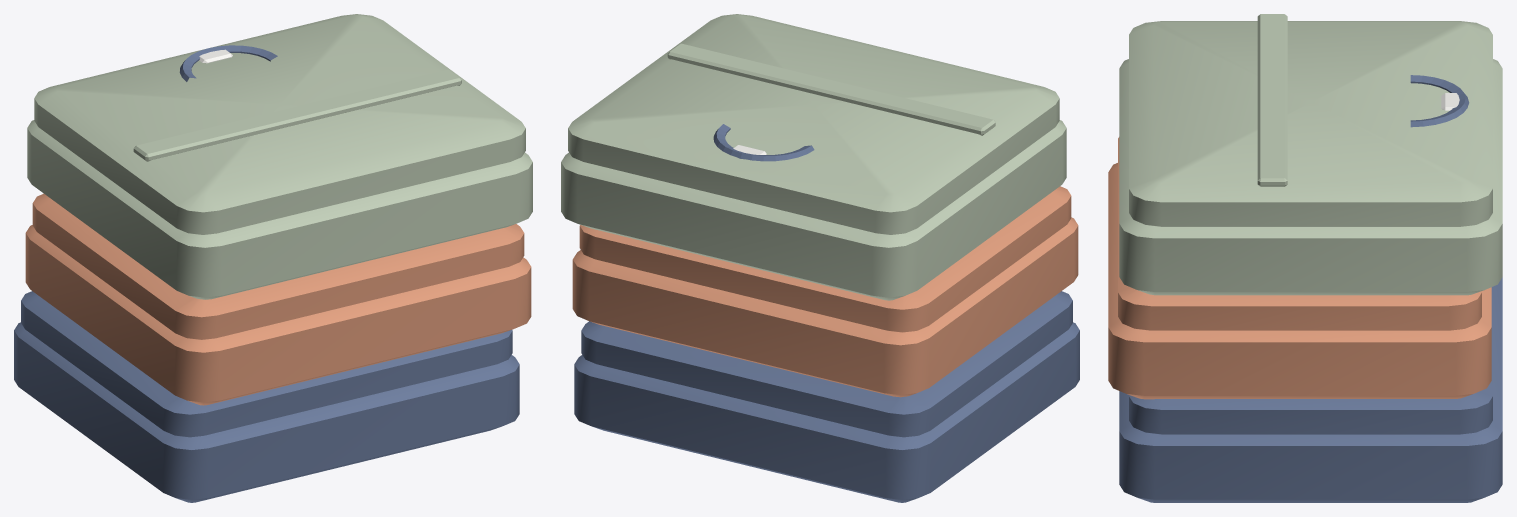
File: clothing-rail-and-wardrobe-folded-jumper-stack-c2eaa64a__35443.glb
The picture shows the model from 3 angles, left to right: view 1: azimuth 30°, elevation 25°; view 2: azimuth 150°, elevation 25°; view 3: azimuth 270°, elevation 25°; orthographic projection. The views are drawn at different scales.
Parts seen in each view (by area): view 1: folded-jumper-stack; view 2: folded-jumper-stack; view 3: folded-jumper-stack.
Boxes of the visible parts, x1,y1,x2,y2 form: folded-jumper-stack: [14, 14, 532, 502]; folded-jumper-stack: [561, 14, 1079, 502]; folded-jumper-stack: [1108, 14, 1502, 502].
Bounding box in the file's own units: 0.332 × 0.2683 × 0.288.
